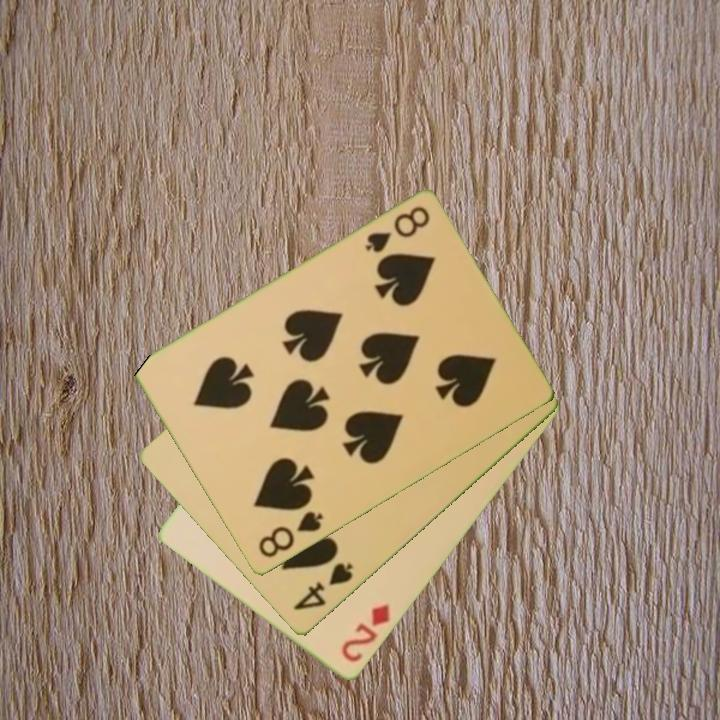2d: (337, 600, 393, 666)
4s: (289, 559, 356, 614)
8s: (254, 508, 326, 562), (361, 203, 433, 257)
